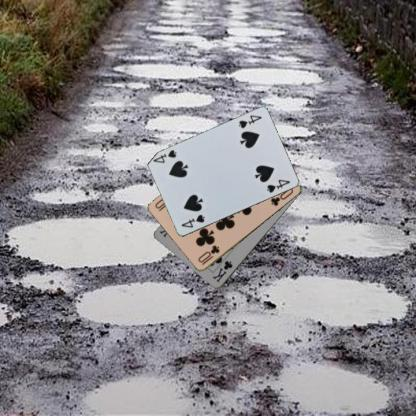10c: (195, 243, 221, 266)
4s: (178, 212, 206, 229), (236, 113, 263, 130)
Kc: (210, 258, 234, 284)
